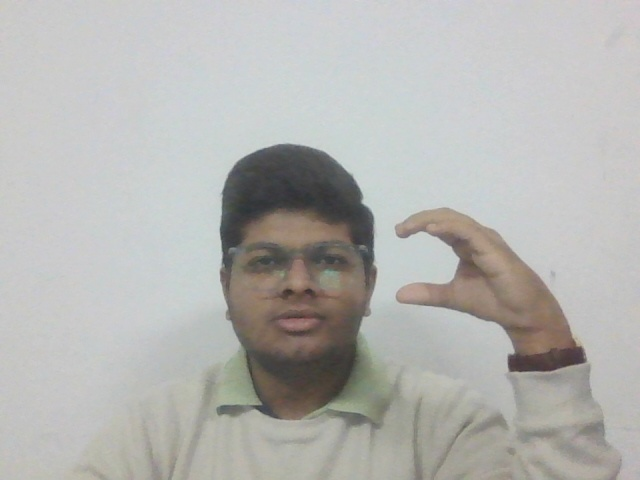C: (390, 203, 550, 334)
